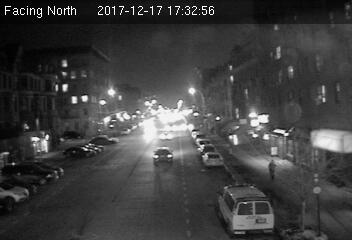car: (150, 146, 176, 165), (202, 153, 223, 168)
police: (218, 183, 274, 236)
